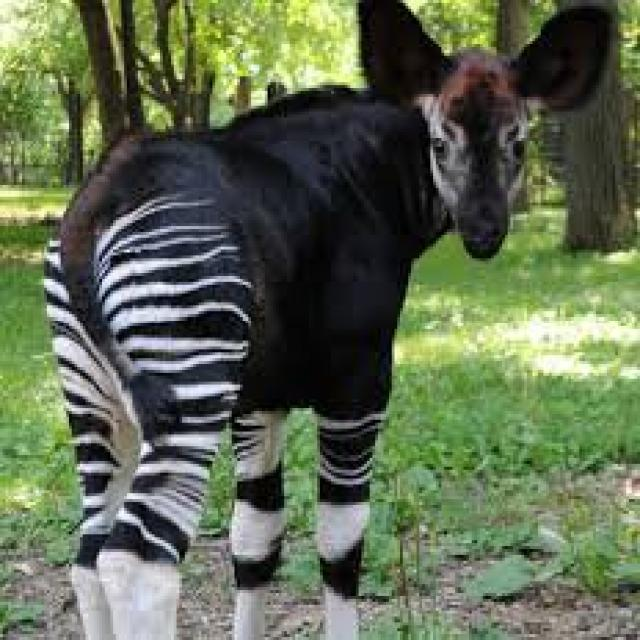Okapi: (34, 2, 624, 630)
